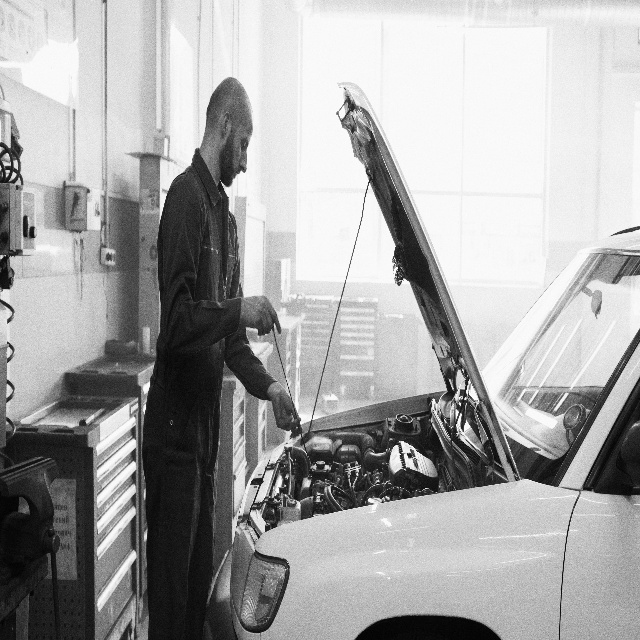Sin_guantes: (239, 293, 281, 337), (267, 384, 303, 435)
